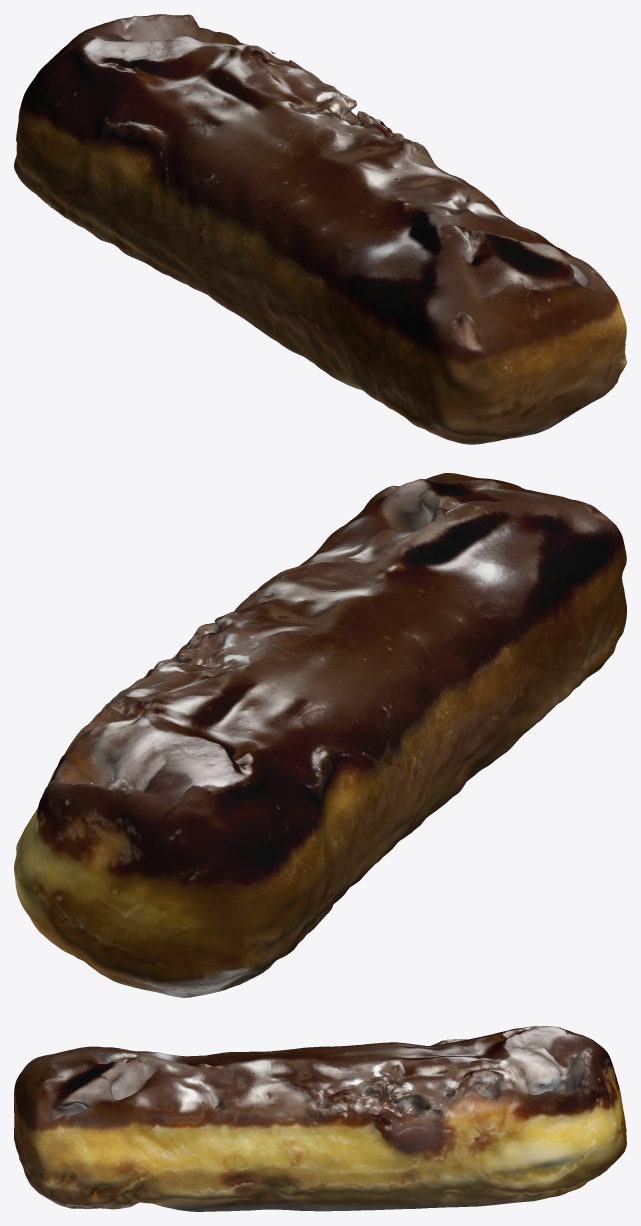
Rendered from DonutwMatv2.fbx.
The picture shows the model from 3 angles, top to bottom: view 1: azimuth 30°, elevation 25°; view 2: azimuth 150°, elevation 25°; view 3: azimuth 270°, elevation 25°; orthographic projection. The views are drawn at different scales.
Visible parts, largest first — view 1: DModel_Custom:Mesh; view 2: DModel_Custom:Mesh; view 3: DModel_Custom:Mesh.
Part boxes in pixels (x1,y1,x2,y2): DModel_Custom:Mesh: [14, 14, 626, 444]; DModel_Custom:Mesh: [14, 473, 626, 997]; DModel_Custom:Mesh: [14, 1026, 626, 1211].
Bounding box in the file's own units: 0.7192 × 0.4216 × 1.88.
Materials: 2 (1 with a texture image).
